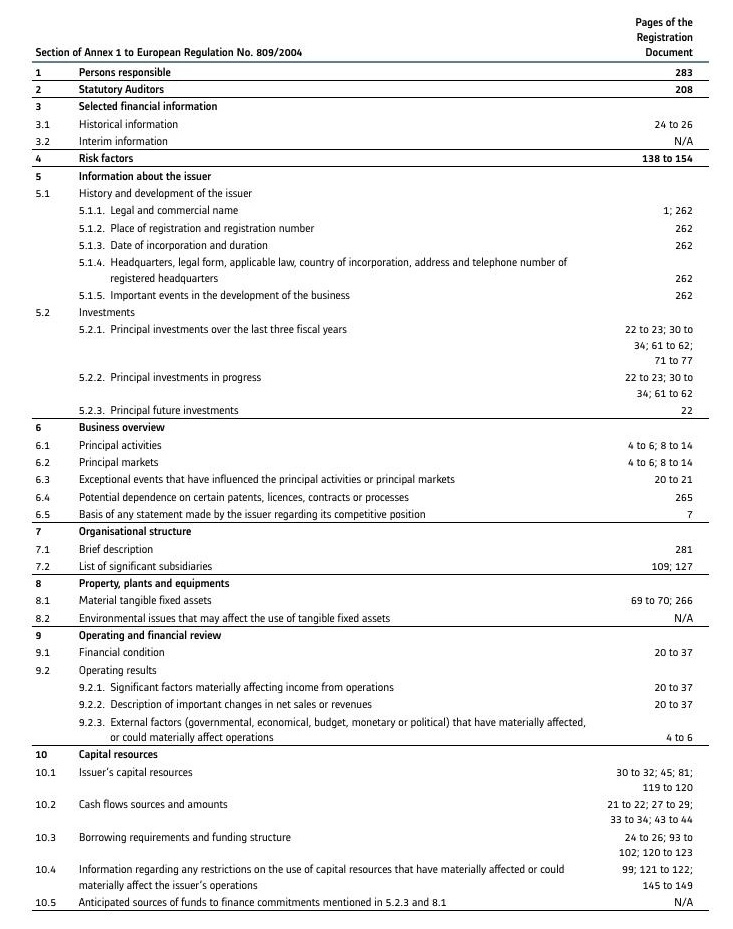table: (0, 0, 733, 929)
